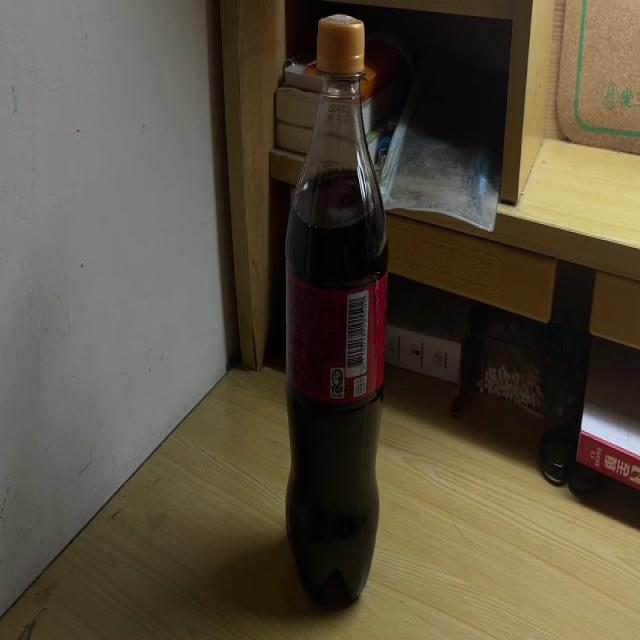Coca-Cola: (287, 14, 386, 608)
